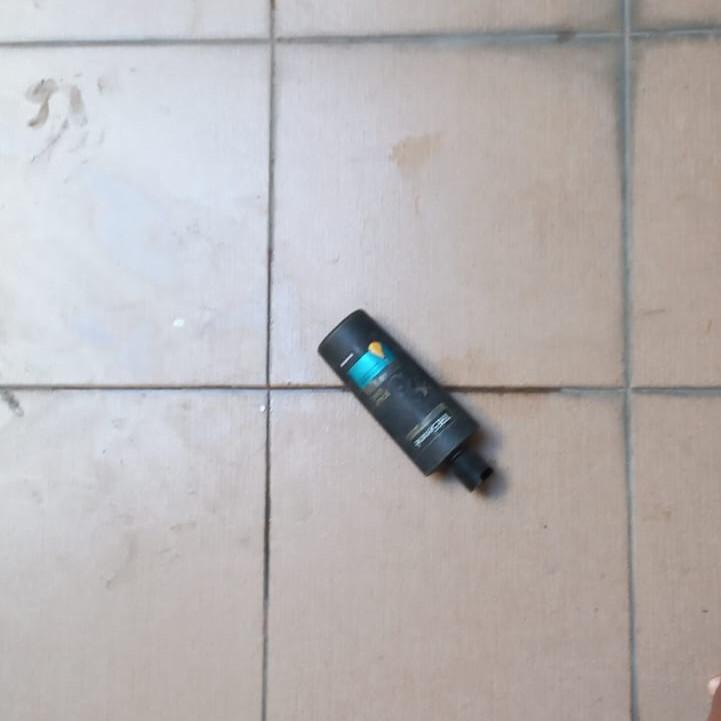Plastik: (318, 309, 495, 493)
